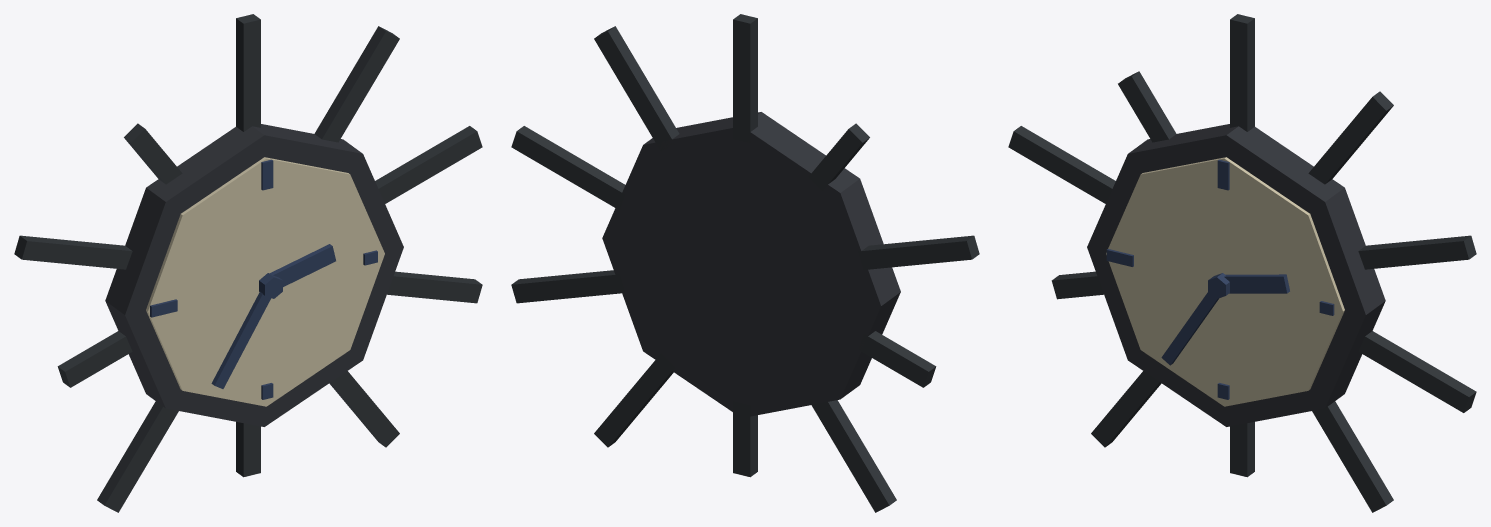
Rendered from wall-clock-13.glb.
The picture shows the model from 3 angles, left to right: view 1: azimuth 30°, elevation 25°; view 2: azimuth 150°, elevation 25°; view 3: azimuth 330°, elevation 25°; orthographic projection.
Parts seen in each view (by area): view 1: wall_clock_13; view 2: wall_clock_13; view 3: wall_clock_13.
Part boxes in pixels (x1,y1,x2,y2): wall_clock_13: (14, 14, 482, 512); wall_clock_13: (511, 14, 979, 512); wall_clock_13: (1008, 14, 1476, 512).
Bounding box in the file's own units: 0.5294 × 0.5035 × 0.0584.
